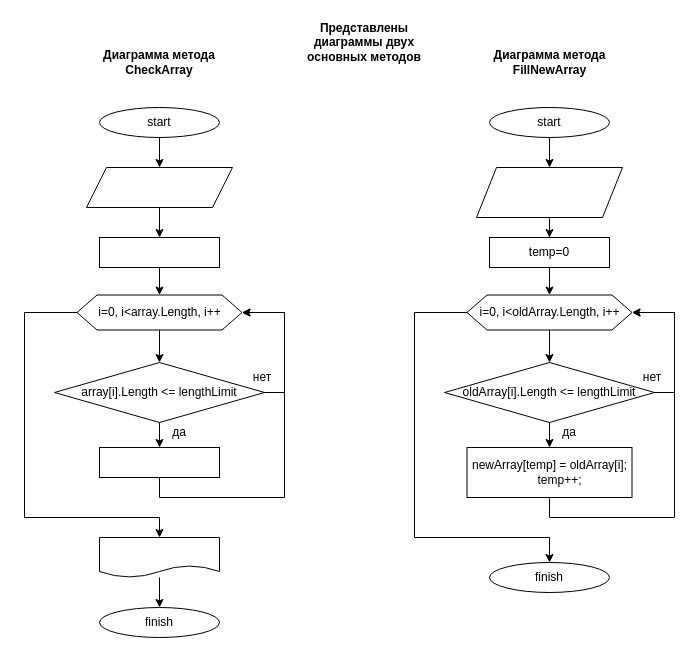
Image size: 700x655. Some labels were removed from this diagram. Here are the shapes that lost their labels. From the top down, the centre of each, then its label:
At (159,187): "array[] lengthLimit".
At (549,192): "oldArray[] newArray[] lengthLimit".
At (159,252): "result=0".
At (159,462): "result++".
At (159,557): "result".
